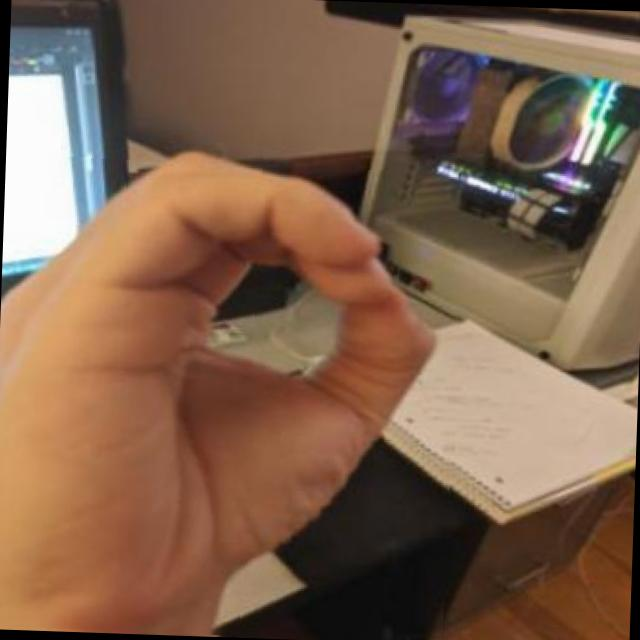O: (0, 123, 466, 640)
